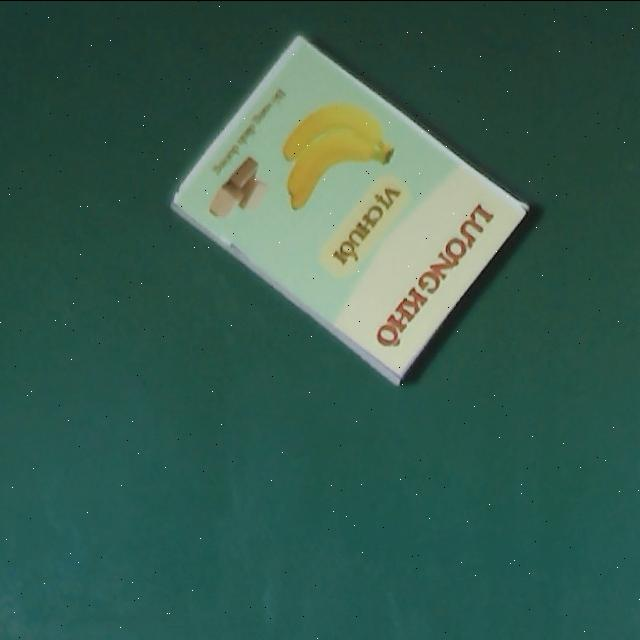chuoi: (161, 31, 531, 386)
